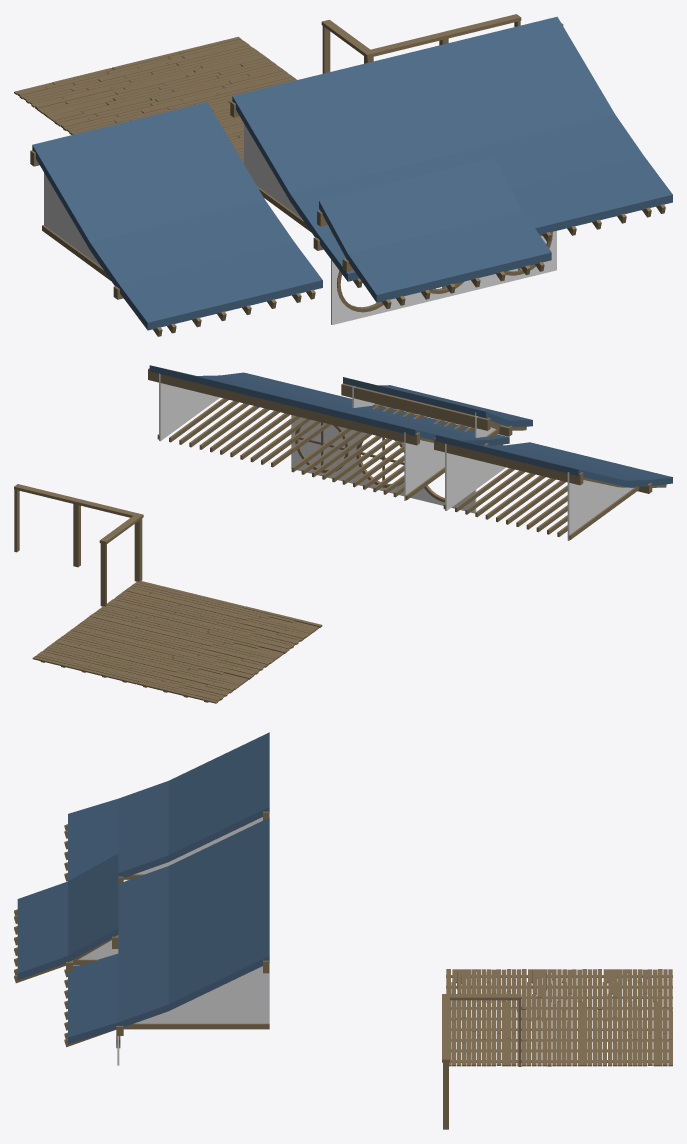
The model's file is Additional House Sections.fbx.
3 renders of one model, top to bottom at view 1: azimuth 30°, elevation 25°; view 2: azimuth 150°, elevation 25°; view 3: azimuth 270°, elevation 25°, orthographic. The views are drawn at different scales.
Parts seen in each view (by area): view 1: 2x4 Half Roof, 2x2 Half Roof, 2x1 Half Roof 1, 3x3 Floor, Pillars Corner, Moon Wall 1, Moon Wall 3, Moon Wall 2, Pillars Side; view 2: 2x4 Half Roof, 3x3 Floor, 2x2 Half Roof, 2x1 Half Roof 1, Pillars Corner, Moon Wall 3, Pillars Side, Moon Wall 2, Moon Wall 1; view 3: 2x4 Half Roof, 3x3 Floor, 2x2 Half Roof, 2x1 Half Roof 1, Pillars Corner, Pillars Side.
Boxes of the visible parts, bbox=[...] form: 2x4 Half Roof: bbox=[230, 16, 672, 287]; 2x2 Half Roof: bbox=[30, 102, 322, 336]; 2x1 Half Roof 1: bbox=[317, 158, 551, 308]; 3x3 Floor: bbox=[14, 36, 296, 163]; Pillars Corner: bbox=[321, 19, 446, 73]; Moon Wall 1: bbox=[331, 259, 406, 324]; Moon Wall 3: bbox=[482, 231, 556, 288]; Moon Wall 2: bbox=[407, 277, 481, 306]; Pillars Side: bbox=[442, 14, 521, 43]; 2x4 Half Roof: bbox=[148, 365, 509, 500]; 3x3 Floor: bbox=[32, 581, 322, 703]; 2x2 Half Roof: bbox=[434, 435, 672, 540]; 2x1 Half Roof 1: bbox=[341, 377, 532, 437]; Pillars Corner: bbox=[75, 499, 143, 606]; Moon Wall 3: bbox=[291, 415, 352, 483]; Pillars Side: bbox=[14, 484, 78, 566]; Moon Wall 2: bbox=[352, 430, 413, 498]; Moon Wall 1: bbox=[414, 485, 476, 513]; 2x4 Half Roof: bbox=[64, 817, 269, 1047]; 3x3 Floor: bbox=[446, 969, 672, 1066]; 2x2 Half Roof: bbox=[64, 732, 269, 883]; 2x1 Half Roof 1: bbox=[14, 854, 118, 983]; Pillars Corner: bbox=[442, 994, 521, 1066]; Pillars Side: bbox=[442, 1027, 449, 1129].
Size of the model in its own units: 2360 by 651 by 2614.
